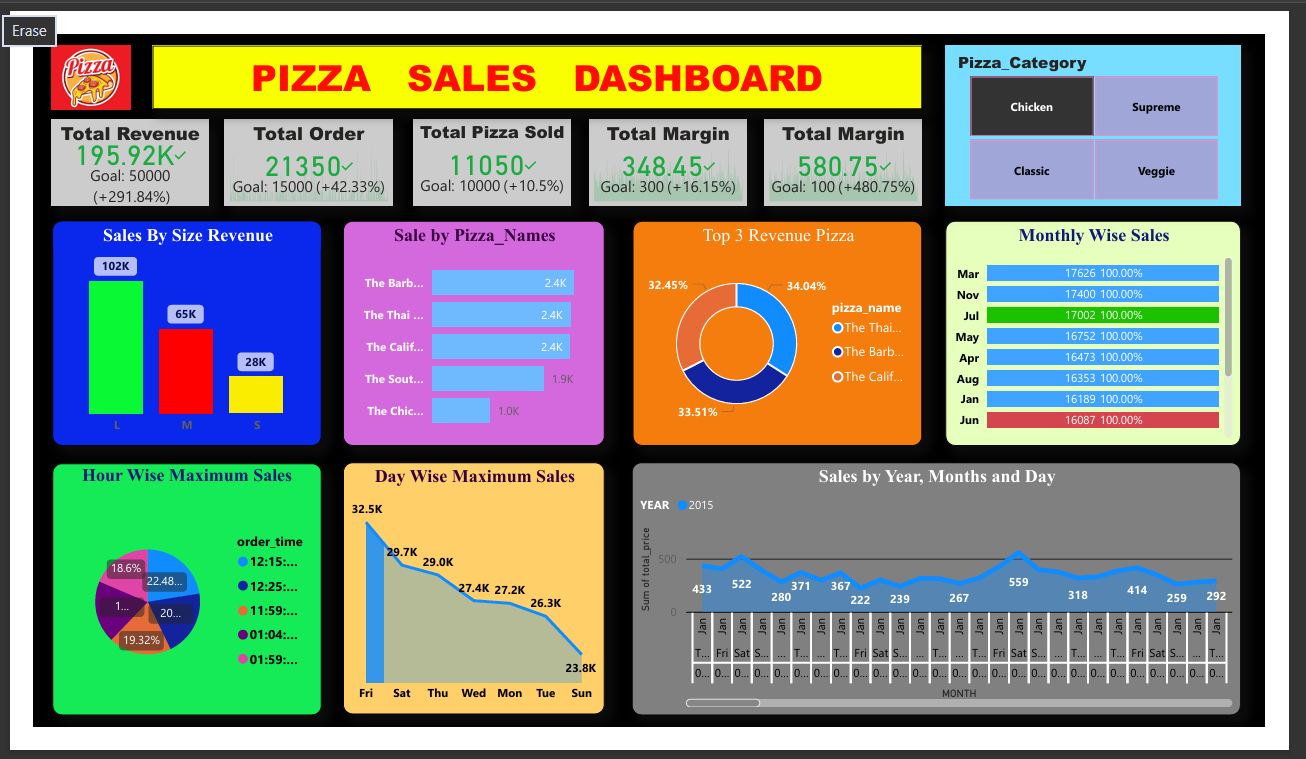

The page's visual inventory and layout, read from the dashboard file:
{"tool":"powerbi","page":{"name":"Page 1","canvas":[1280,720],"ordinal":0},"visuals":[{"type":"clusteredColumnChart","title":"Sales by Pizza_Category","fields":{"Category":["pizzasales.pizza_category"],"Y":["Sum(pizzasales.total_price)"]},"box":[19.6,194.4,280,233.6],"z":0},{"type":"clusteredBarChart","title":"Sale by  Pizza_Names","fields":{"Category":["pizzasales.pizza_name"],"Y":["Sum(pizzasales.quantity)"]},"box":[321.6,194.4,272.7,233.6],"z":1000},{"type":"donutChart","title":"Top 3 Revenue Pizza","fields":{"Category":["pizzasales.pizza_name"],"Y":["Sum(pizzasales.total_price)"]},"box":[622.5,194.2,301.6,234],"z":2000},{"type":"hundredPercentStackedBarChart","title":"Monthly Wise Sales","fields":{"Category":["pizzasales.MONTH"],"Y":["Sum(pizzasales.total_price)"]},"box":[948.3,194.2,306.4,234],"z":3000},{"type":"pieChart","title":"Hour Wise Maximum Sales","fields":{"Category":["pizzasales.order_time"],"Y":["Sum(pizzasales.total_price)"]},"box":[19.6,446.3,280,261.7],"z":4000},{"type":"areaChart","title":"Day Wise Maximum Sales","fields":{"Category":["pizzasales.DAY"],"Y":["Sum(pizzasales.total_price)"]},"box":[321.6,445.1,272.7,261.7],"z":5000},{"type":"lineStackedColumnComboChart","title":"Sales By Size Revenue","fields":{"Category":["pizzasales.pizza_size"],"Y":["Sum(pizzasales.total_price)"]},"box":[19.6,194.4,280,233.6],"z":6000},{"type":"stackedAreaChart","title":"Sales by  Year, Months and Day","fields":{"Category":["pizzasales.order_date","pizzasales.DAY","pizzasales.MONTH"],"Y":["Sum(pizzasales.total_price)"],"Series":["pizzasales.YEAR"]},"box":[622.4,445.1,632.2,262.9],"z":7000},{"type":"slicer","fields":{"Values":["pizzasales.pizza_category"]},"box":[947.7,12.2,306.9,166.3],"z":8000},{"type":"kpi","title":"Total Revenue","fields":{"Indicator":["Sum(pizzasales.total_price)"],"Goal":["Table.totalprofit"],"TrendLine":["pizzasales.YEAR"]},"box":[19.3,89.3,164.1,89.3],"z":9000},{"type":"kpi","title":"Total Order","fields":{"Indicator":["Sum(pizzasales.order_id)"],"TrendLine":["pizzasales.order_id"],"Goal":["Table.Target Order"]},"box":[199.1,89.3,174.9,89.3],"z":10000},{"type":"kpi","title":"Total Pizza Sold","fields":{"Indicator":["Sum(pizzasales.quantity)"],"TrendLine":["pizzasales.YEAR"],"Goal":["Table.Revenue Target"]},"box":[394.5,89.3,164.1,89.3],"z":11000},{"type":"kpi","title":"Total Margin","fields":{"Indicator":["Sum(pizzasales.MARGIN)"],"TrendLine":["pizzasales.order_date"],"Goal":["Table.total margin"]},"box":[577.9,89.3,164.1,89.3],"z":12000},{"type":"kpi","title":"Total Margin","fields":{"Indicator":["Sum(pizzasales.total_price)"],"TrendLine":["pizzasales.order_date"],"Goal":["Table.averagerorder target"]},"box":[760.1,89.3,164.1,89.3],"z":13000},{"type":"textbox","box":[124.3,12.1,799.9,66.4],"z":14000},{"type":"image","box":[19.3,12.1,82,66.4],"z":15000}]}

Visuals, with their boxes on the page's 1280x720 design canvas (x1, y1, x2, y2). These are canvas units, not pixel positions in the 1306x759 screenshot, which may show the page scaled, cropped or inside an application window:
"Sales by Pizza_Category" clusteredColumnChart: [20,194,300,428]
"Sale by  Pizza_Names" clusteredBarChart: [322,194,594,428]
"Top 3 Revenue Pizza" donutChart: [622,194,924,428]
"Monthly Wise Sales" hundredPercentStackedBarChart: [948,194,1255,428]
"Hour Wise Maximum Sales" pieChart: [20,446,300,708]
"Day Wise Maximum Sales" areaChart: [322,445,594,707]
"Sales By Size Revenue" lineStackedColumnComboChart: [20,194,300,428]
"Sales by  Year, Months and Day" stackedAreaChart: [622,445,1255,708]
slicer - pizzasales.pizza_category: [948,12,1255,178]
"Total Revenue" kpi: [19,89,183,179]
"Total Order" kpi: [199,89,374,179]
"Total Pizza Sold" kpi: [394,89,559,179]
"Total Margin" kpi: [578,89,742,179]
"Total Margin" kpi: [760,89,924,179]
textbox: [124,12,924,78]
image: [19,12,101,78]
